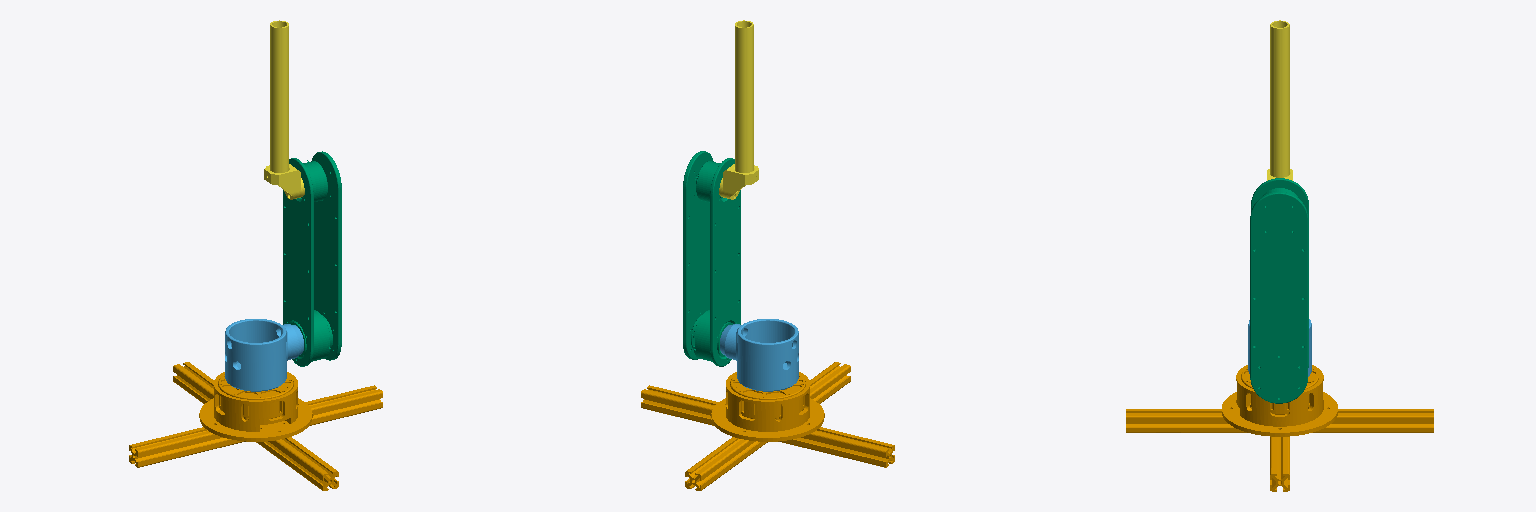
robot.urdf — tourdf:
<?xml version="1.0" ?>
<robot name="tourdf">

<material name="silver">
  <color rgba="0.700 0.700 0.700 1.000"/>
</material>

<link name="base_link">
  <inertial>
    <origin xyz="6.912026120657246e-05 0.0005720490415996128 0.029075184860186634" rpy="0 0 0"/>
    <mass value="1.2"/>
    <inertia ixx="0.0007980769195944366" iyy="0.0007195636744859759" izz="0.0012845184486745302" ixy="2.8926384843563094e-08" iyz="-4.532134986318635e-09" ixz="-4.049221235579667e-07"/>
  </inertial>
  <visual>
    <origin xyz="0 0 0" rpy="0 0 0"/>
    <geometry>
      <mesh filename="meshes/base_link.stl" scale="0.001 0.001 0.001"/>
    </geometry>
    <material name="silver"/>
    <material/>
  </visual>
  <collision>
    <origin xyz="0 0 0" rpy="0 0 0"/>
    <geometry>
      <mesh filename="meshes/base_link.stl" scale="0.001 0.001 0.001"/>
    </geometry>
  </collision>
</link>

<link name="link21">
  <inertial>
    <origin xyz="0.009331956179756715 -2.9985901183365485e-07 0.02399962139808455" rpy="0 0 0"/>
    <mass value="0.585"/>
    <inertia ixx="0.0003785204684716541" iyy="0.0005330534105908525" izz="0.0005580559101902895" ixy="5.031908469282907e-09" iyz="4.743777188632137e-09" ixz="-6.277929462266709e-05"/>
  </inertial>
  <visual>
    <origin xyz="3.8e-05 -3.8e-05 -0.06515" rpy="0 0 0"/>
    <geometry>
      <mesh filename="meshes/link21.stl" scale="0.001 0.001 0.001"/>
    </geometry>
    <material name="silver"/>
    <material/>
  </visual>
  <collision>
    <origin xyz="3.8e-05 -3.8e-05 -0.06515" rpy="0 0 0"/>
    <geometry>
      <mesh filename="meshes/link21.stl" scale="0.001 0.001 0.001"/>
    </geometry>
  </collision>
</link>

<link name="link31">
  <inertial>
    <origin xyz="0.018958552727281412 -0.0002894631712261024 0.07973545129791977" rpy="0 0 0"/>
    <mass value="0.5"/>
    <inertia ixx="0.008812134218006702" iyy="0.008749204571214426" izz="0.0006375739657706993" ixy="6.962761718452438e-06" iyz="2.437335169897415e-06" ixz="-7.409790729534516e-05"/>
  </inertial>
  <visual>
    <origin xyz="-0.049962 -3.8e-05 -0.10015" rpy="0 0 0"/>
    <geometry>
      <mesh filename="meshes/link31.stl" scale="0.001 0.001 0.001"/>
    </geometry>
    <material name="silver"/>
    <material/>
  </visual>
  <collision>
    <origin xyz="-0.049962 -3.8e-05 -0.10015" rpy="0 0 0"/>
    <geometry>
      <mesh filename="meshes/link31.stl" scale="0.001 0.001 0.001"/>
    </geometry>
  </collision>
</link>

<link name="link41">
  <inertial>
    <origin xyz="-0.019545283743454267 3.886237290085838e-07 0.06420591996606956" rpy="0 0 0"/>
    <mass value="0.05"/>
    <inertia ixx="0.001062823907867043" iyy="0.0010742577637534445" izz="3.8997410129328156e-05" ixy="-1.4400830789910385e-11" iyz="-1.109149448959568e-10" ixz="7.393713345127005e-05"/>
  </inertial>
  <visual>
    <origin xyz="-0.052962 -3.8e-05 -0.28015" rpy="0 0 0"/>
    <geometry>
      <mesh filename="meshes/link41.stl" scale="0.001 0.001 0.001"/>
    </geometry>
    <material name="silver"/>
    <material/>
  </visual>
  <collision>
    <origin xyz="-0.052962 -3.8e-05 -0.28015" rpy="0 0 0"/>
    <geometry>
      <mesh filename="meshes/link41.stl" scale="0.001 0.001 0.001"/>
    </geometry>
  </collision>
</link>

<joint name="route_1" type="continuous">
  <origin xyz="-3.8e-05 3.8e-05 0.06515" rpy="0 0 0"/>
  <parent link="base_link"/>
  <child link="link21"/>
  <axis xyz="-0.0 -0.0 1.0"/>
</joint>
<transmission name="route_1_tran">
  <type>transmission_interface/SimpleTransmission</type>
  <joint name="route_1">
    <hardwareInterface>PositionJointInterface</hardwareInterface>
  </joint>
  <actuator name="route_1_actr">
    <hardwareInterface>PositionJointInterface</hardwareInterface>
    <mechanicalReduction>1</mechanicalReduction>
  </actuator>
</transmission>

<joint name="route_2" type="continuous">
  <origin xyz="0.05 0.0 0.035" rpy="0 0 0"/>
  <parent link="link21"/>
  <child link="link31"/>
  <axis xyz="-1.0 -0.0 -0.0"/>
</joint>
<transmission name="route_2_tran">
  <type>transmission_interface/SimpleTransmission</type>
  <joint name="route_2">
    <hardwareInterface>PositionJointInterface</hardwareInterface>
  </joint>
  <actuator name="route_2_actr">
    <hardwareInterface>PositionJointInterface</hardwareInterface>
    <mechanicalReduction>1</mechanicalReduction>
  </actuator>
</transmission>

<joint name="route_3" type="continuous">
  <origin xyz="0.003 0.0 0.18" rpy="0 0 0"/>
  <parent link="link31"/>
  <child link="link41"/>
  <axis xyz="1.0 -0.0 0.0"/>
</joint>
<transmission name="route_3_tran">
  <type>transmission_interface/SimpleTransmission</type>
  <joint name="route_3">
    <hardwareInterface>PositionJointInterface</hardwareInterface>
  </joint>
  <actuator name="route_3_actr">
    <hardwareInterface>PositionJointInterface</hardwareInterface>
    <mechanicalReduction>1</mechanicalReduction>
  </actuator>
</transmission>

</robot>

--- Facts derived from the render (not from the file) ---
Views: 3 orthographic renders of the robot side by side, from view 1: azimuth 30°, elevation 25°; view 2: azimuth 150°, elevation 25°; view 3: azimuth 270°, elevation 25°.
Model tourdf with 4 links and 3 joints (3 continuous), rooted at base_link, posed every joint at zero.
Links seen in each view (by area): view 1: base_link, link31, link21, link41; view 2: base_link, link31, link21, link41; view 3: link31, base_link, link41.
Boxes of the visible links, x1=… form: base_link: x1=129, y1=362, x2=382, y2=490; link31: x1=283, y1=151, x2=341, y2=366; link21: x1=225, y1=319, x2=303, y2=391; link41: x1=264, y1=20, x2=304, y2=199; base_link: x1=641, y1=362, x2=894, y2=490; link31: x1=683, y1=151, x2=740, y2=366; link21: x1=720, y1=319, x2=798, y2=391; link41: x1=719, y1=20, x2=758, y2=199; link31: x1=1250, y1=178, x2=1308, y2=403; base_link: x1=1126, y1=365, x2=1433, y2=491; link41: x1=1267, y1=20, x2=1292, y2=180.
Bounding box of the posed robot: 0.3 × 0.3173 × 0.4742 m (x, y, z).
Meshes: 4 distinct files referenced, 4 mesh visuals loaded (4 binary STL).